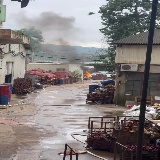fire: (86, 71, 92, 77)
